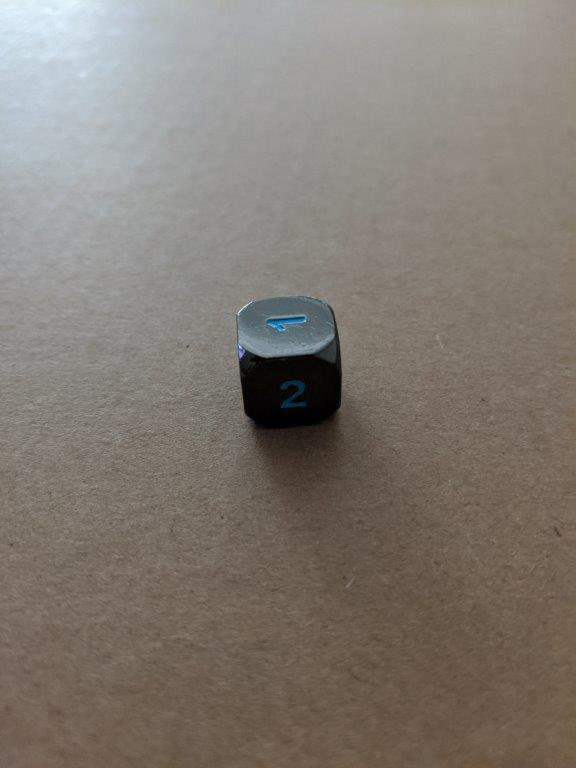d6-1: (235, 296, 342, 431)
